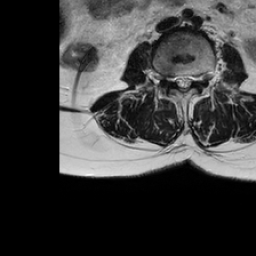CCS_stenosis: (180, 68, 187, 97)
LFS_severe_stenosis: (195, 69, 201, 87)
LLS_normal: (187, 70, 194, 91)
RFS_severe_stenosis: (166, 68, 174, 86)
RLS_normal: (174, 70, 181, 90)
